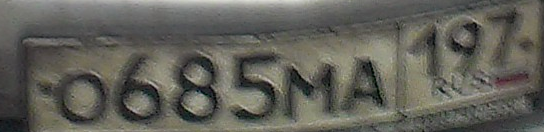character: (226, 47, 282, 124), (172, 48, 224, 128), (112, 50, 166, 126), (51, 64, 110, 131), (284, 56, 338, 123), (338, 57, 388, 117), (444, 17, 485, 84), (483, 8, 523, 70), (405, 21, 444, 82)
